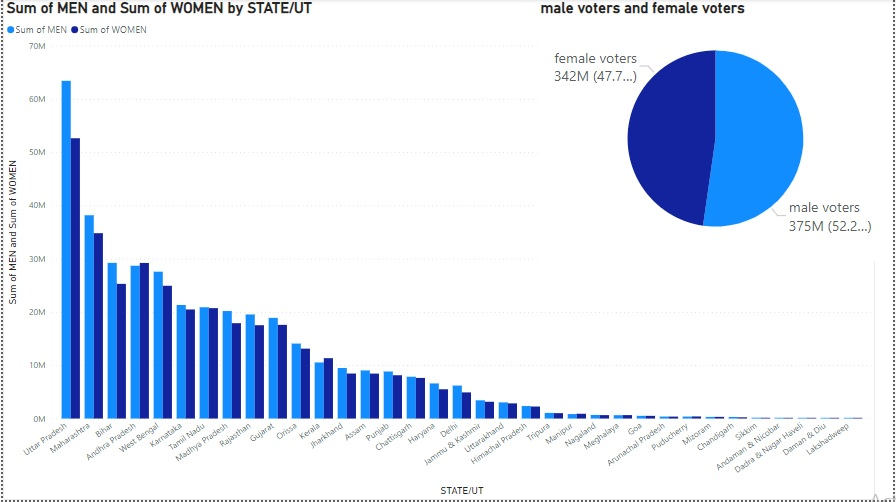

What the dashboard file says about the page in this screenshot:
{"tool":"powerbi","page":{"name":"Page 2","canvas":[1280,720],"ordinal":1},"visuals":[{"type":"clusteredColumnChart","fields":{"Category":["Append1.STATE/UT"],"Y":["Sum(Append1.MEN)","Sum(Append1.WOMEN)"]},"box":[0,0,1253.2,720],"z":0},{"type":"pieChart","fields":{"Y":["Append1.Measure","Append1.Measure 2"]},"box":[767.4,0,513.1,376.5],"z":1000}]}

Visuals, with their boxes in screenshot pixels (x1, y1, x2, y2), scaled from the page's 1280x720 canvas onto the 896x502 screenshot:
clusteredColumnChart - Append1.STATE/UT x Sum(Append1.MEN): region(0, 0, 877, 501)
pieChart - Append1.Measure x Append1.Measure 2: region(537, 0, 895, 263)
